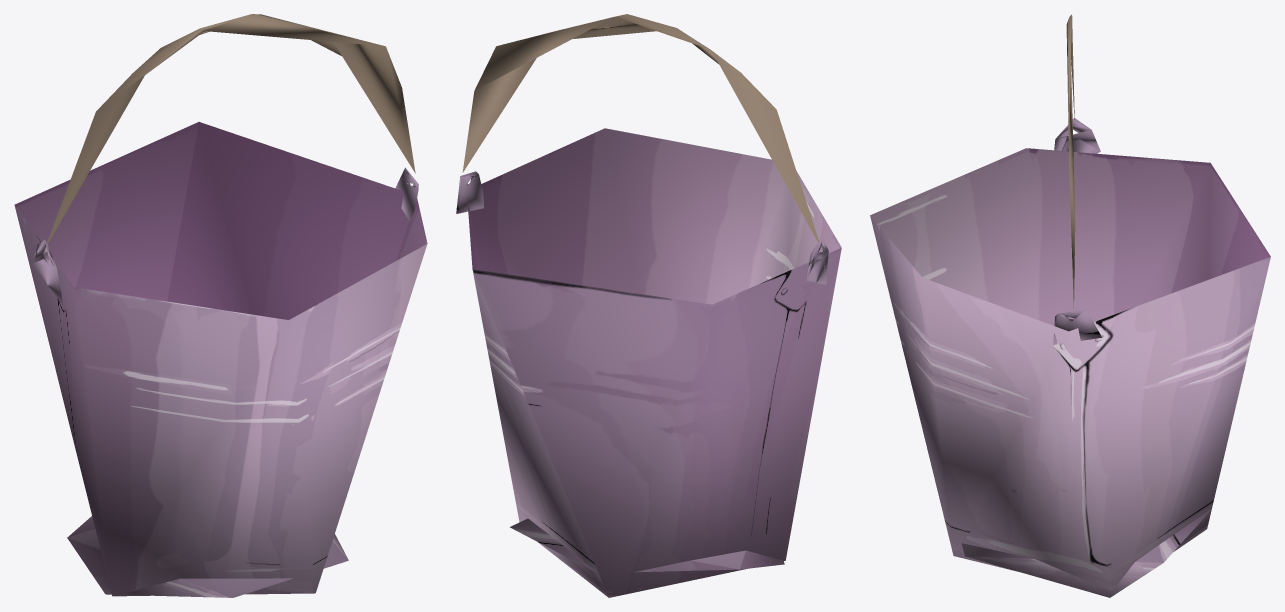
Rendered from MetalBucket_LOD3.fbx.
The picture shows the model from 3 angles, left to right: view 1: azimuth 30°, elevation 25°; view 2: azimuth 150°, elevation 25°; view 3: azimuth 270°, elevation 25°; orthographic projection. The views are drawn at different scales.
Parts seen in each view (by area): view 1: MetalBucket_LOD3; view 2: MetalBucket_LOD3; view 3: MetalBucket_LOD3.
Boxes of the visible parts, left/top/right/bottom form: MetalBucket_LOD3: left=14, top=14, right=427, bottom=597; MetalBucket_LOD3: left=456, top=14, right=841, bottom=597; MetalBucket_LOD3: left=870, top=14, right=1270, bottom=597.
Bounding box in the file's own units: 0.3093 × 0.4275 × 0.3032.
Materials: 1 (1 with a texture image).
